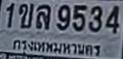1: (6, 2, 14, 27)
3: (88, 5, 101, 31)
4: (105, 4, 118, 33)
5: (72, 4, 86, 30)
9: (56, 4, 69, 29)
A02: (18, 2, 33, 28)
A36: (36, 4, 49, 28)
BKK: (9, 36, 102, 59)
